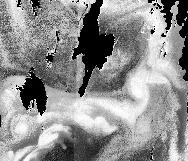CE: (6, 108, 38, 143)
